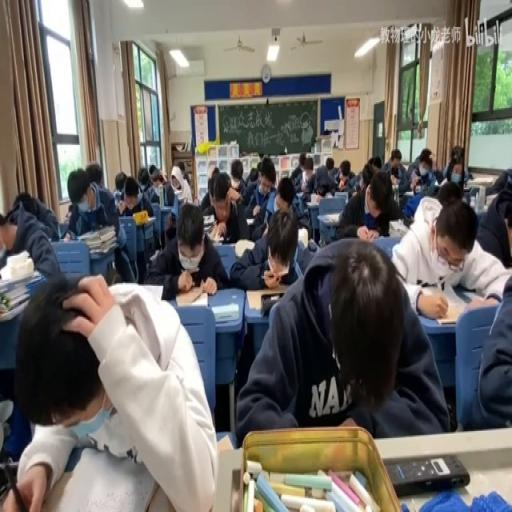calculator: (429, 290, 470, 324), (77, 223, 116, 255), (246, 288, 290, 312), (210, 300, 238, 322), (176, 287, 208, 306), (133, 282, 162, 300), (460, 286, 488, 303), (233, 236, 254, 258), (216, 432, 233, 455), (389, 218, 409, 236), (206, 222, 224, 242), (292, 192, 307, 213), (466, 185, 480, 205), (134, 213, 155, 226), (216, 240, 238, 250), (484, 194, 499, 208), (322, 212, 341, 222), (202, 213, 214, 225), (306, 198, 322, 206), (318, 190, 334, 198), (334, 191, 348, 199), (404, 189, 414, 196), (245, 216, 254, 223)
paper: (2, 265, 212, 509), (236, 234, 442, 440), (389, 192, 508, 313), (149, 202, 226, 299), (228, 202, 310, 289), (0, 193, 58, 278), (334, 165, 401, 237), (116, 175, 154, 277), (402, 146, 436, 192), (302, 162, 338, 201), (438, 145, 470, 186), (199, 165, 222, 212), (147, 164, 173, 204), (380, 149, 406, 188), (484, 166, 511, 198), (436, 179, 463, 205), (336, 160, 355, 190), (259, 159, 276, 191), (276, 176, 294, 206), (84, 161, 102, 189), (334, 222, 362, 240), (0, 219, 15, 250), (360, 160, 374, 190), (290, 162, 303, 192), (502, 212, 511, 254), (230, 164, 244, 188), (138, 165, 150, 189), (125, 185, 138, 206), (114, 172, 126, 192), (296, 152, 306, 171), (248, 165, 258, 182), (370, 156, 382, 170), (324, 155, 334, 171), (65, 203, 74, 219), (171, 179, 181, 192), (178, 161, 186, 176), (182, 171, 190, 186), (152, 174, 161, 186), (256, 161, 262, 175), (452, 155, 458, 165), (258, 152, 264, 161)
person: (386, 452, 470, 494)
